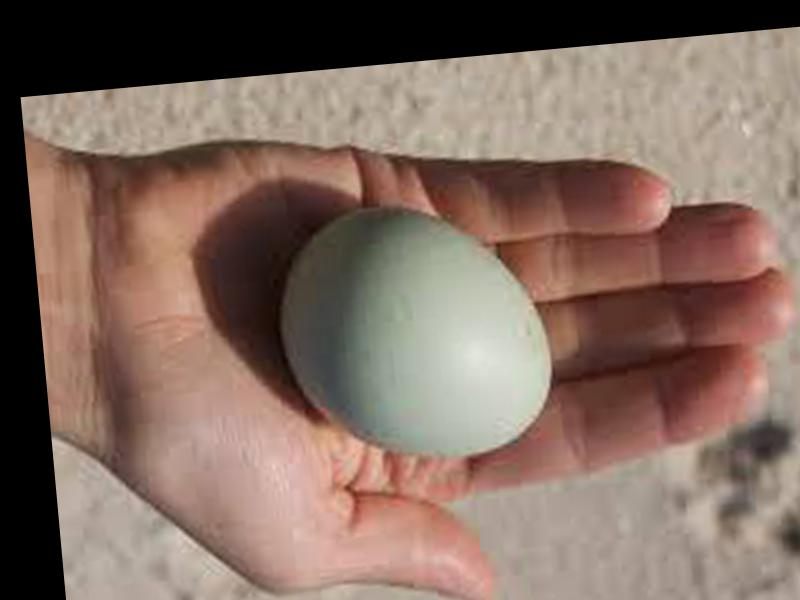Eggs: (276, 192, 552, 465)
